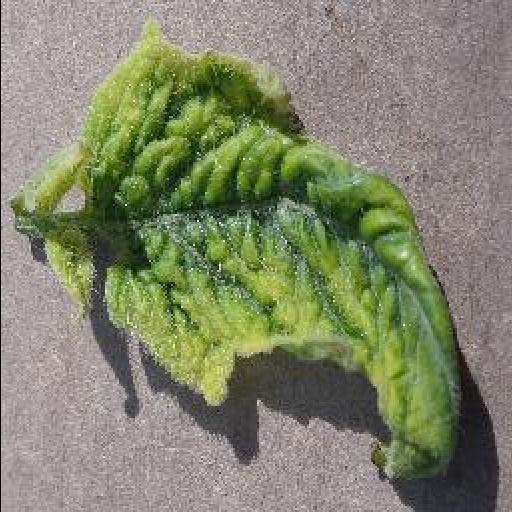disease_tomato: (44, 20, 462, 486)
